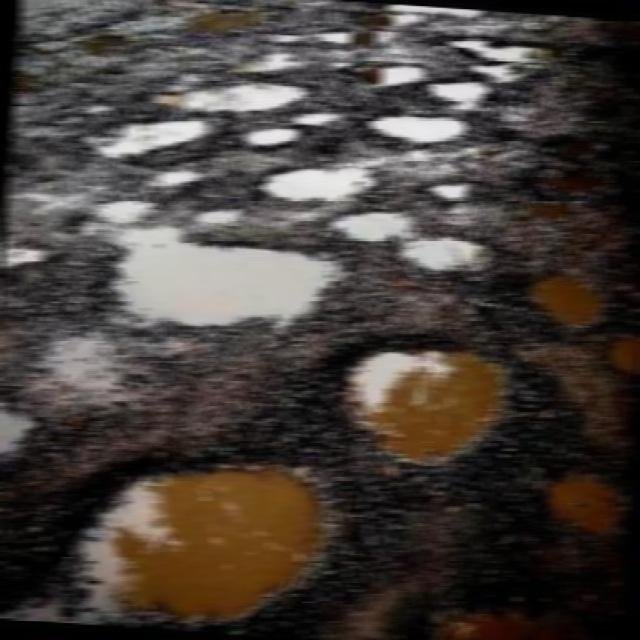Pothole: (0, 442, 347, 639), (61, 215, 349, 330), (320, 322, 503, 473), (392, 574, 610, 640), (532, 452, 634, 546), (76, 109, 229, 168), (38, 329, 136, 406), (390, 228, 510, 286), (140, 79, 320, 116), (516, 263, 610, 328), (520, 166, 604, 238), (251, 159, 378, 206), (440, 25, 558, 75), (367, 104, 478, 154), (159, 0, 289, 40), (338, 3, 427, 54), (331, 206, 414, 250), (0, 385, 46, 463), (0, 44, 53, 104), (336, 60, 442, 89), (376, 0, 498, 24), (88, 190, 161, 230), (258, 21, 361, 49), (423, 73, 495, 112), (224, 118, 310, 150), (0, 240, 58, 274), (407, 178, 489, 202), (80, 32, 141, 62), (599, 330, 640, 373), (287, 108, 348, 128)
